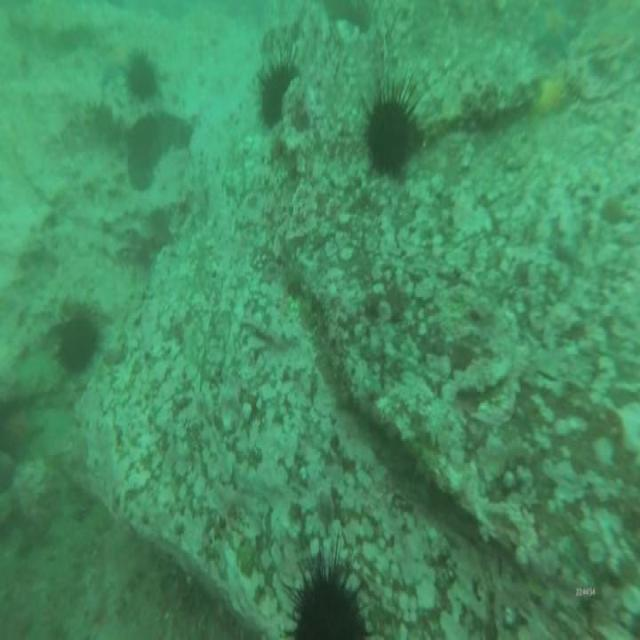echinus: (278, 540, 371, 640), (364, 79, 420, 177), (49, 302, 99, 381), (254, 55, 302, 136), (124, 48, 162, 104)
holothurian: (124, 110, 194, 194)
starfish: (531, 11, 585, 66)
